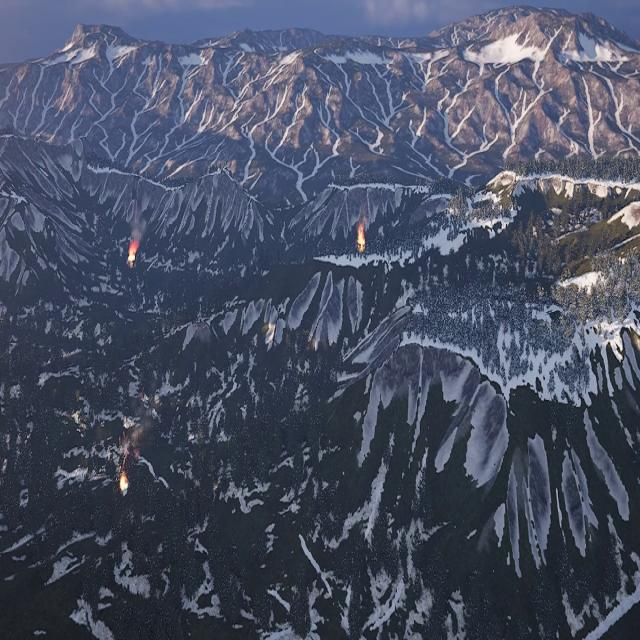fire: (129, 242, 139, 266), (356, 225, 364, 251), (119, 474, 128, 494)
smoke: (118, 395, 159, 462), (130, 203, 149, 243)
